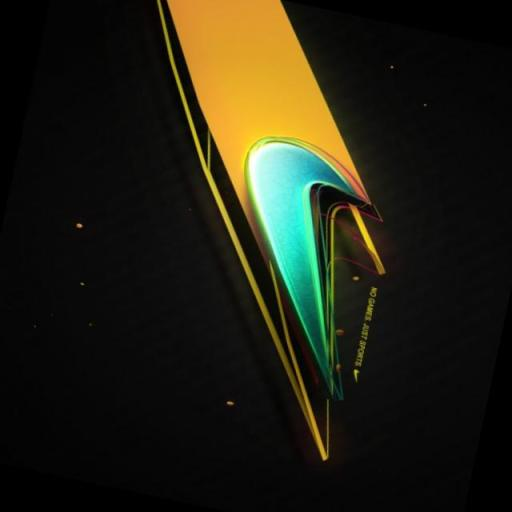Nike: (203, 133, 378, 390)
